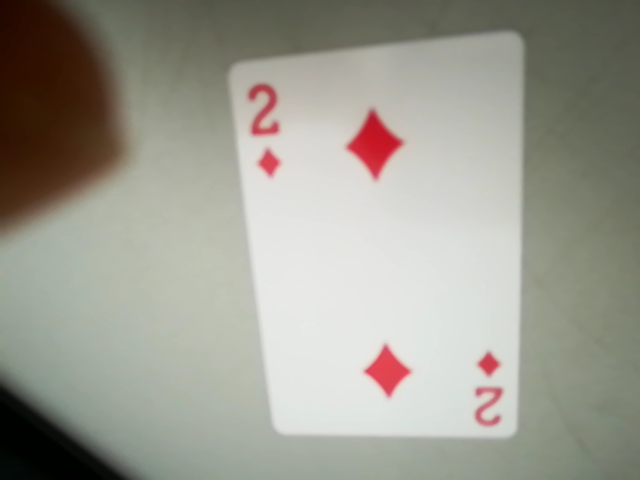fk 2: (234, 68, 287, 186), (468, 354, 511, 434)
